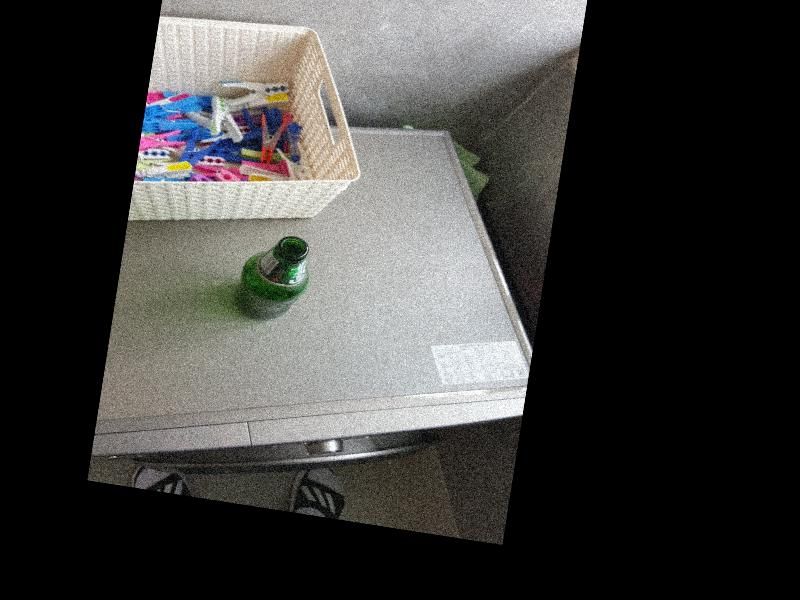Beer: (233, 230, 310, 327)
